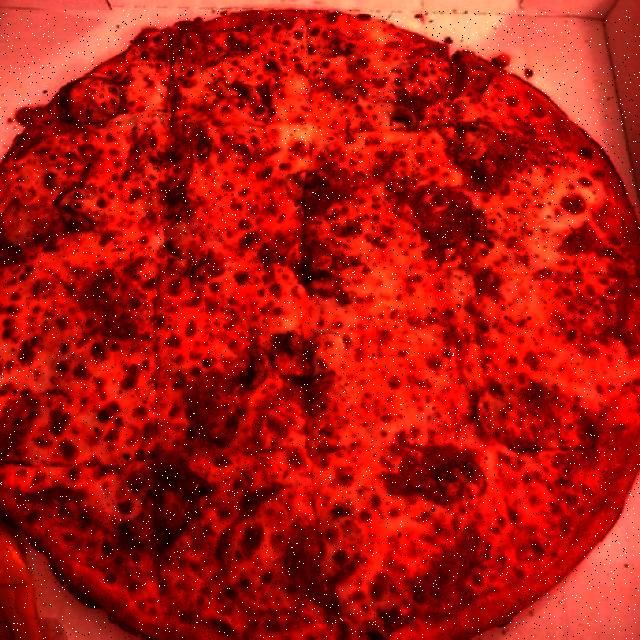Pizza: (0, 11, 640, 639)
